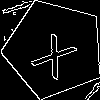X: (29, 24, 84, 81)
